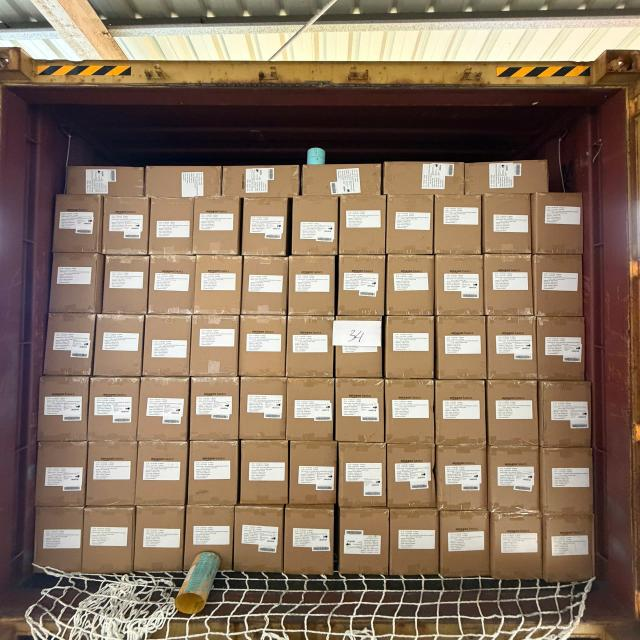Carton: (540, 446, 594, 516), (540, 380, 594, 449), (541, 518, 594, 588), (338, 508, 388, 580), (490, 516, 542, 585), (284, 508, 334, 579), (487, 380, 539, 448), (438, 513, 489, 582), (390, 510, 440, 580), (488, 448, 540, 515), (134, 505, 184, 574), (439, 445, 489, 514), (84, 506, 134, 575), (185, 504, 234, 574), (438, 379, 488, 447), (35, 505, 84, 574), (482, 253, 534, 318), (382, 380, 433, 446), (36, 442, 87, 508), (438, 316, 489, 382), (233, 506, 282, 574), (90, 377, 141, 442), (140, 378, 190, 444), (389, 444, 437, 512), (336, 379, 386, 444), (488, 317, 538, 382), (382, 316, 432, 381), (137, 442, 187, 507), (536, 253, 586, 318), (39, 376, 88, 442), (89, 442, 138, 508), (337, 444, 385, 511), (534, 192, 585, 255), (53, 254, 104, 317), (92, 313, 142, 377), (190, 442, 240, 506), (288, 443, 337, 508), (46, 313, 96, 376), (435, 254, 484, 318), (338, 253, 387, 317), (538, 317, 586, 382), (242, 441, 290, 506), (466, 163, 550, 200), (335, 317, 385, 379), (192, 314, 241, 377), (191, 379, 240, 442), (387, 255, 436, 318), (286, 315, 334, 378), (237, 314, 285, 377), (286, 379, 334, 442), (143, 315, 191, 378), (194, 254, 242, 317), (237, 378, 284, 442), (481, 195, 530, 256), (287, 254, 335, 316), (386, 193, 434, 255), (436, 194, 484, 255), (53, 193, 101, 254), (149, 255, 196, 316), (292, 194, 338, 256), (384, 160, 464, 195), (195, 196, 242, 255), (242, 196, 288, 256), (102, 195, 148, 255), (243, 256, 288, 317), (106, 253, 150, 315), (338, 196, 384, 255), (302, 167, 382, 200), (151, 197, 195, 256), (147, 168, 222, 202), (224, 168, 298, 201), (69, 169, 147, 200)
